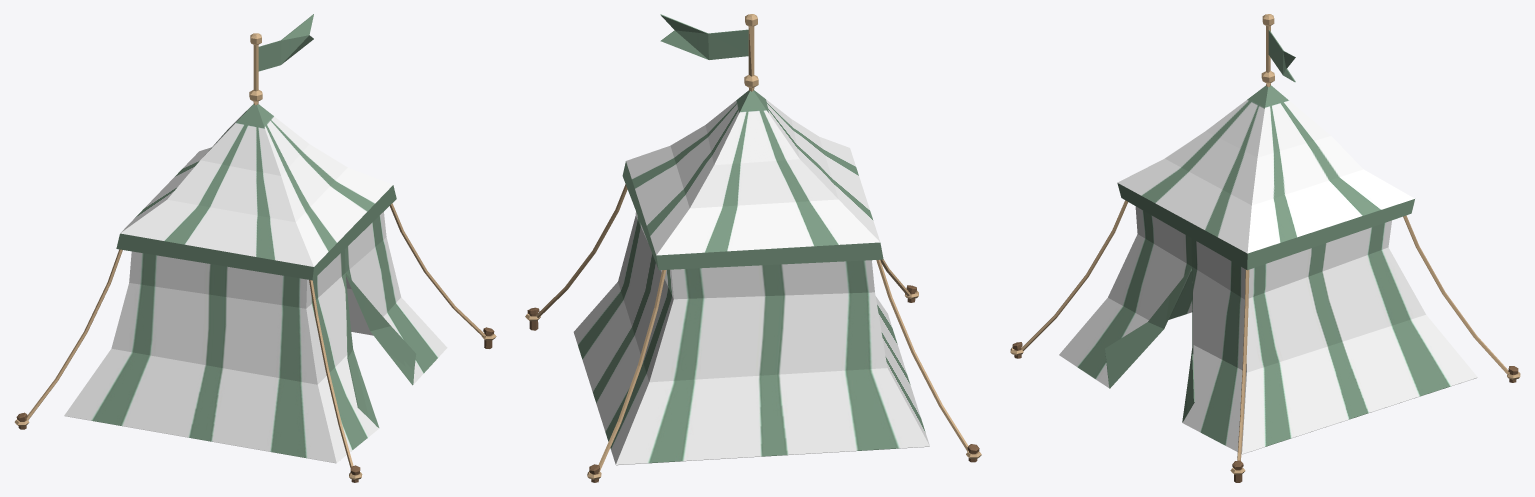
The model's file is carpita verde.fbx.
3 renders of one model, left to right at view 1: azimuth 30°, elevation 25°; view 2: azimuth 150°, elevation 25°; view 3: azimuth 270°, elevation 25°, orthographic. The views are drawn at different scales.
Parts seen in each view (by area): view 1: tent_green; view 2: tent_green; view 3: tent_green.
Part boxes in pixels (x1,y1,x2,y2): tent_green: (14, 14, 496, 482); tent_green: (525, 14, 981, 482); tent_green: (1010, 14, 1520, 482).
Bounding box in the file's own units: 703 × 531 × 683.
1 material, 1 textured.
